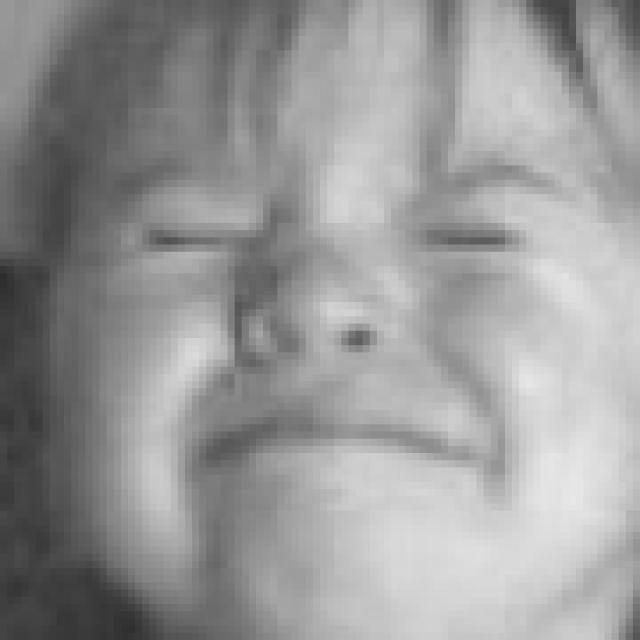real: (42, 51, 618, 613), (115, 165, 563, 306)
